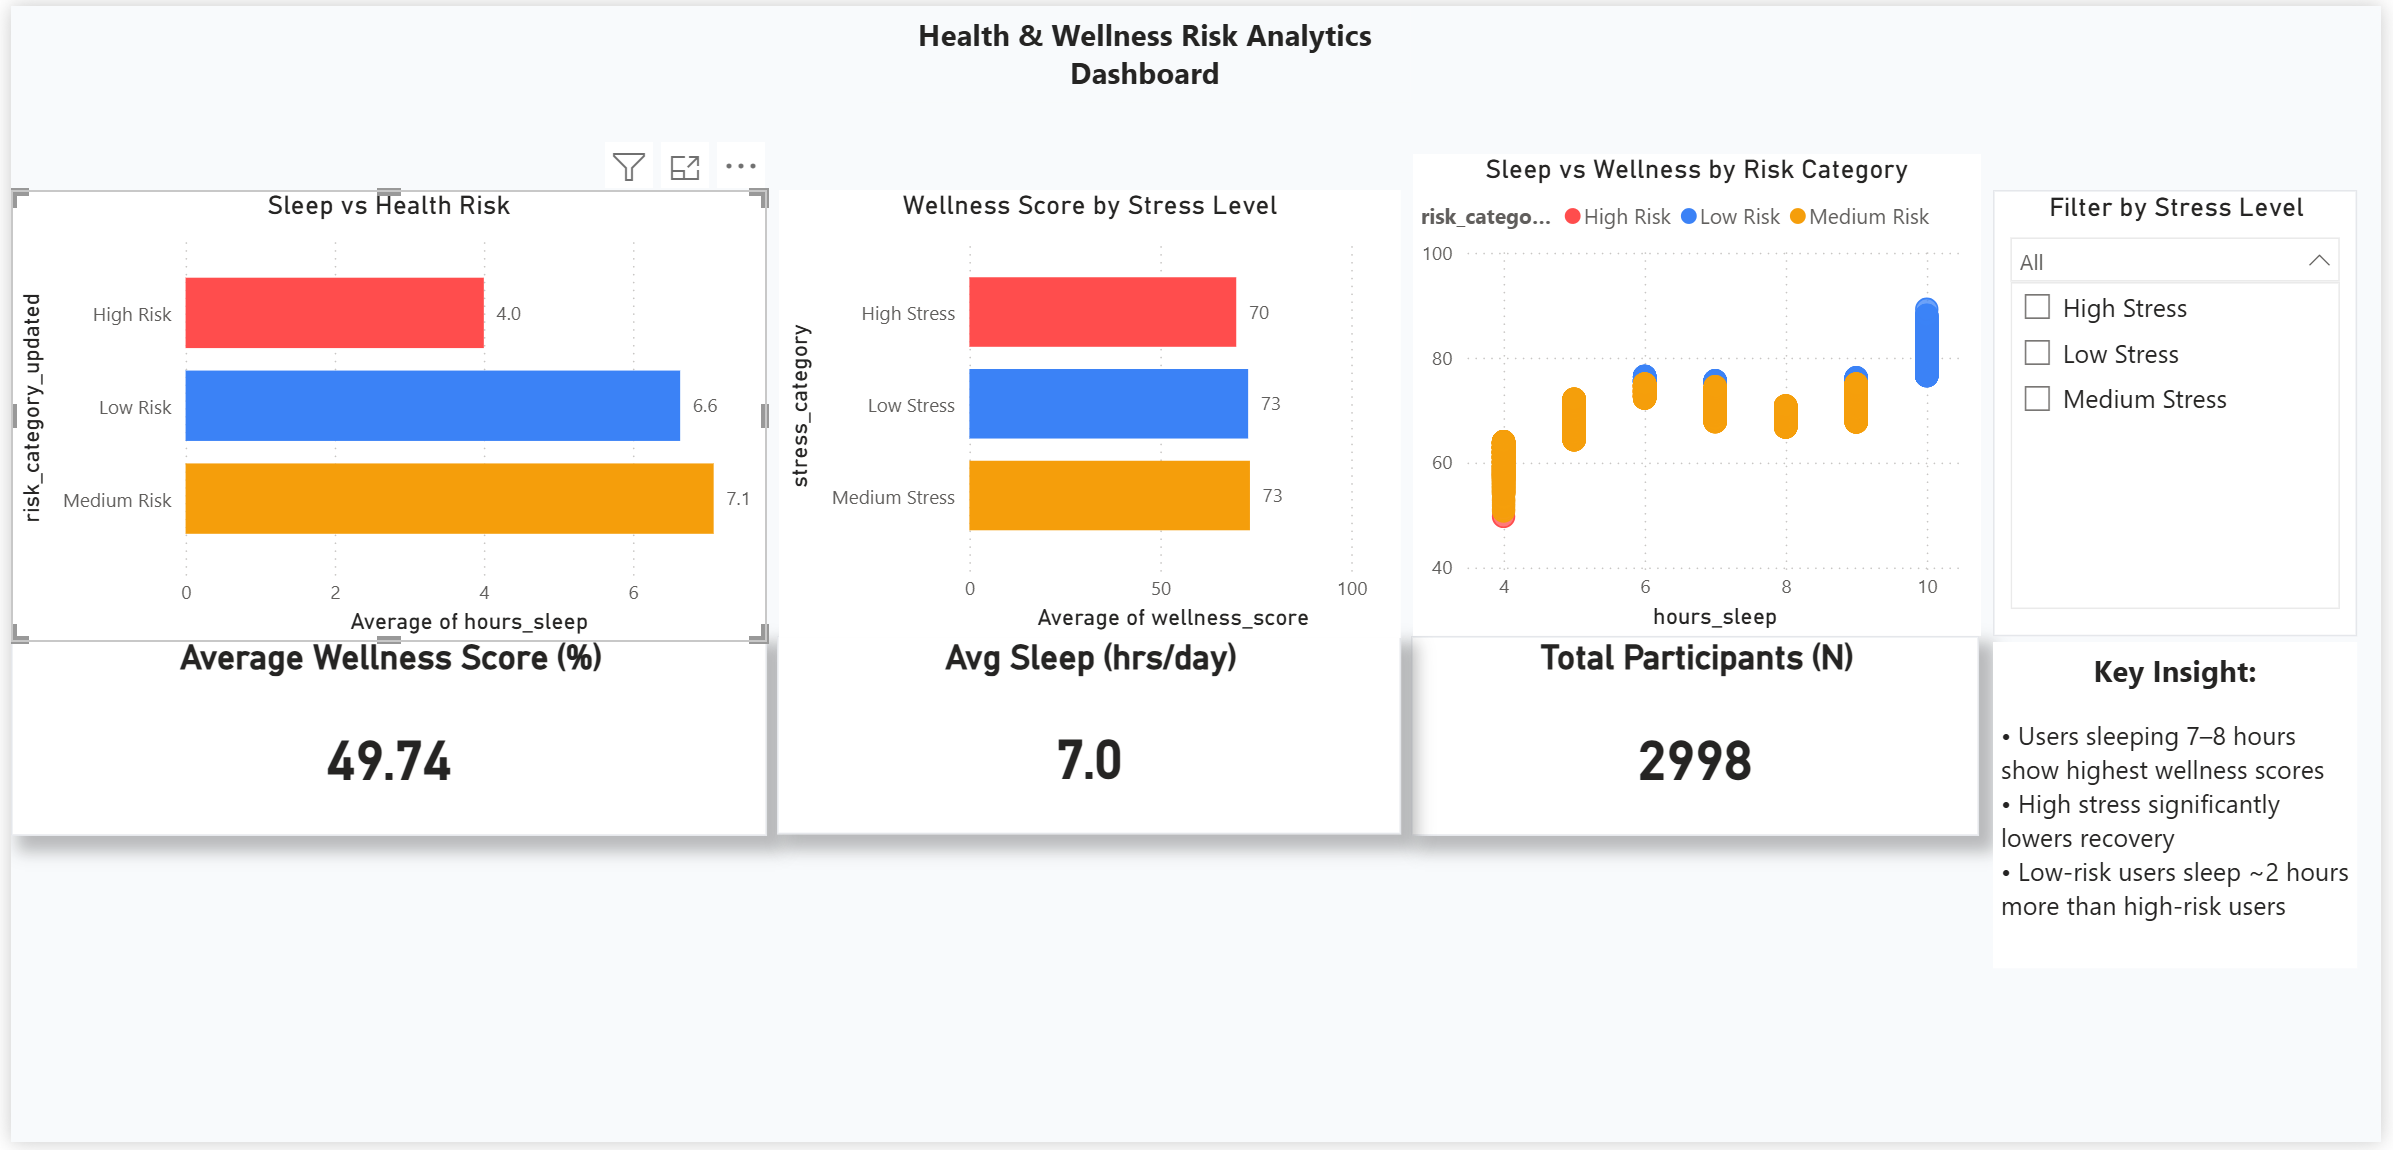

The page's visual inventory and layout, read from the dashboard file:
{"tool":"powerbi","page":{"name":"Page 1","canvas":[1500,719],"ordinal":0},"visuals":[{"type":"card","title":"Average Wellness Score (%)","fields":{"Values":["Min(dashboard_data_cleaned.wellness_score)"]},"box":[0,412.7,478.5,126.6],"z":0},{"type":"card","title":"Total Participants (N)","fields":{"Values":["CountNonNull(dashboard_data_cleaned.participant_id)"]},"box":[894.9,412.7,359.5,126.6],"z":1000},{"type":"card","title":"Avg Sleep (hrs/day)","fields":{"Values":["Avg(dashboard_data_cleaned.hours_sleep)"]},"box":[491.1,412.7,394.9,125.3],"z":2000},{"type":"textbox","box":[549.4,0,336.7,60.8],"z":3000},{"type":"clusteredBarChart","title":"Sleep vs Health Risk","fields":{"Category":["dashboard_data_cleaned.risk_category_updated"],"Y":["Avg(dashboard_data_cleaned.hours_sleep)"]},"box":[0,116.5,478.5,286.1],"z":4000},{"type":"barChart","title":"Wellness Score by Stress Level","fields":{"Category":["dashboard_data_cleaned.stress_category"],"Y":["Avg(dashboard_data_cleaned.wellness_score)"]},"box":[486.1,116.5,393.7,283.5],"z":5000},{"type":"scatterChart","title":"Sleep vs Wellness by Risk Category","fields":{"X":["dashboard_data_cleaned.hours_sleep"],"Y":["dashboard_data_cleaned.wellness_score"],"Series":["dashboard_data_cleaned.risk_category_updated"]},"box":[887.3,93.7,359.5,305.1],"z":6000},{"type":"slicer","title":"Filter by Stress Level","fields":{"Values":["dashboard_data_cleaned.stress_category"]},"box":[1254.4,116.5,230.4,282.3],"z":7000},{"type":"textbox","box":[1254.4,402.5,230.4,206.3],"z":8000}]}

Visuals, with their boxes in screenshot pixels (x1, y1, x2, y2), scaled from the page's 1500x719 canvas onto the 2393x1150 screenshot:
"Average Wellness Score (%)" card: 0:660:763:863
"Total Participants (N)" card: 1428:660:2001:863
"Avg Sleep (hrs/day)" card: 783:660:1413:861
textbox: 876:0:1414:97
"Sleep vs Health Risk" clusteredBarChart: 0:186:763:644
"Wellness Score by Stress Level" barChart: 775:186:1404:640
"Sleep vs Wellness by Risk Category" scatterChart: 1416:150:1989:638
"Filter by Stress Level" slicer: 2001:186:2369:638
textbox: 2001:644:2369:974
